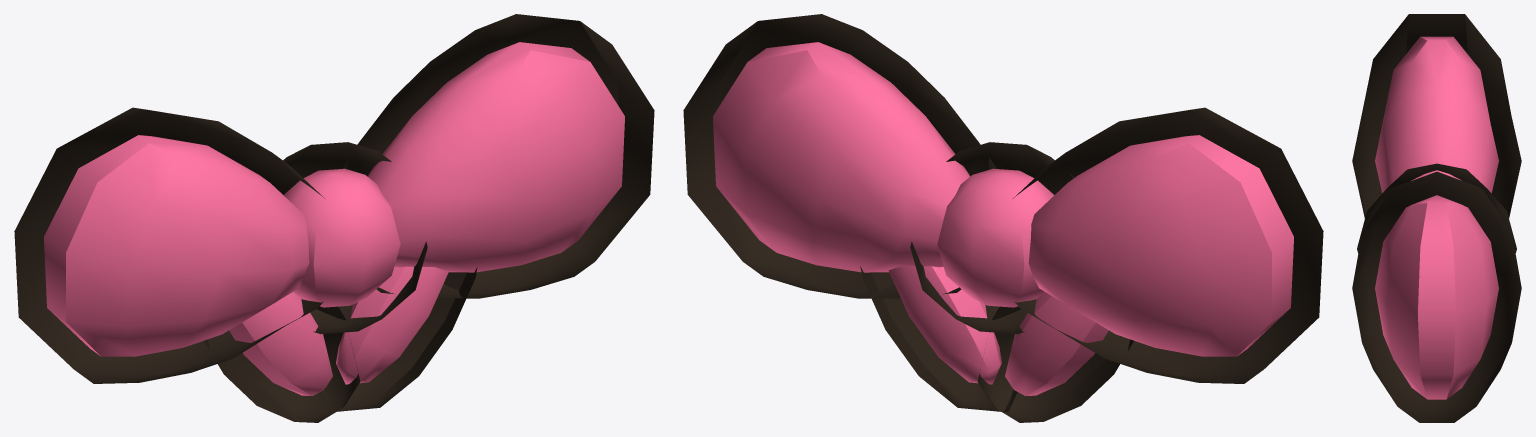
File: hat-bow.glb
3 views of the same model, side by side, from view 1: azimuth 30°, elevation 25°; view 2: azimuth 150°, elevation 25°; view 3: azimuth 270°, elevation 25° (orthographic). The views are drawn at different scales.
Parts seen in each view (by area): view 1: hat-bow; view 2: hat-bow; view 3: hat-bow.
Boxes of the visible parts, box(x1,y1,x2,y2) form: hat-bow: box(14, 14, 654, 422); hat-bow: box(683, 14, 1323, 422); hat-bow: box(1352, 14, 1521, 422).
Size of the model in its own units: 0.6859 by 0.3734 by 0.1913.
